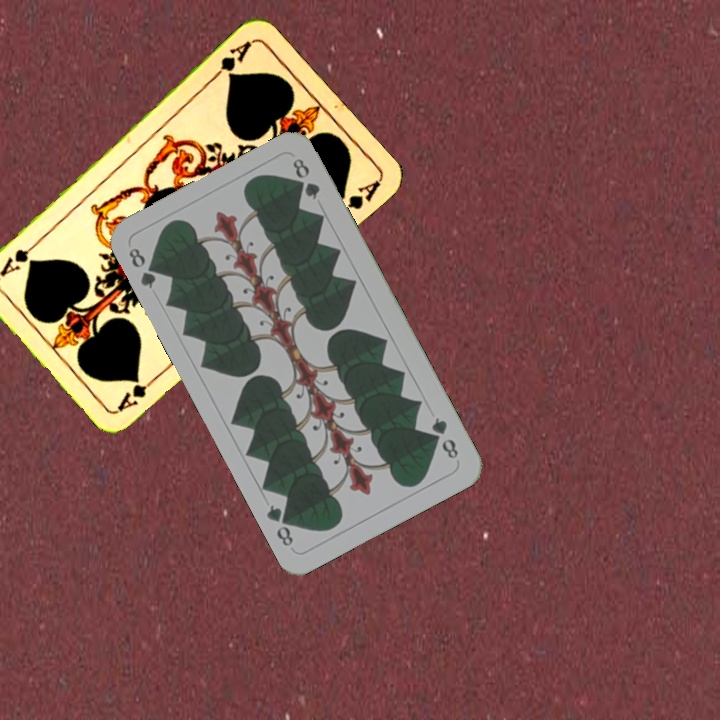G8: (124, 243, 163, 292), (427, 413, 461, 462)
GA: (113, 369, 163, 414), (208, 36, 255, 83)
